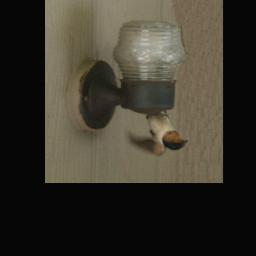Swallow: (126, 110, 189, 157)
